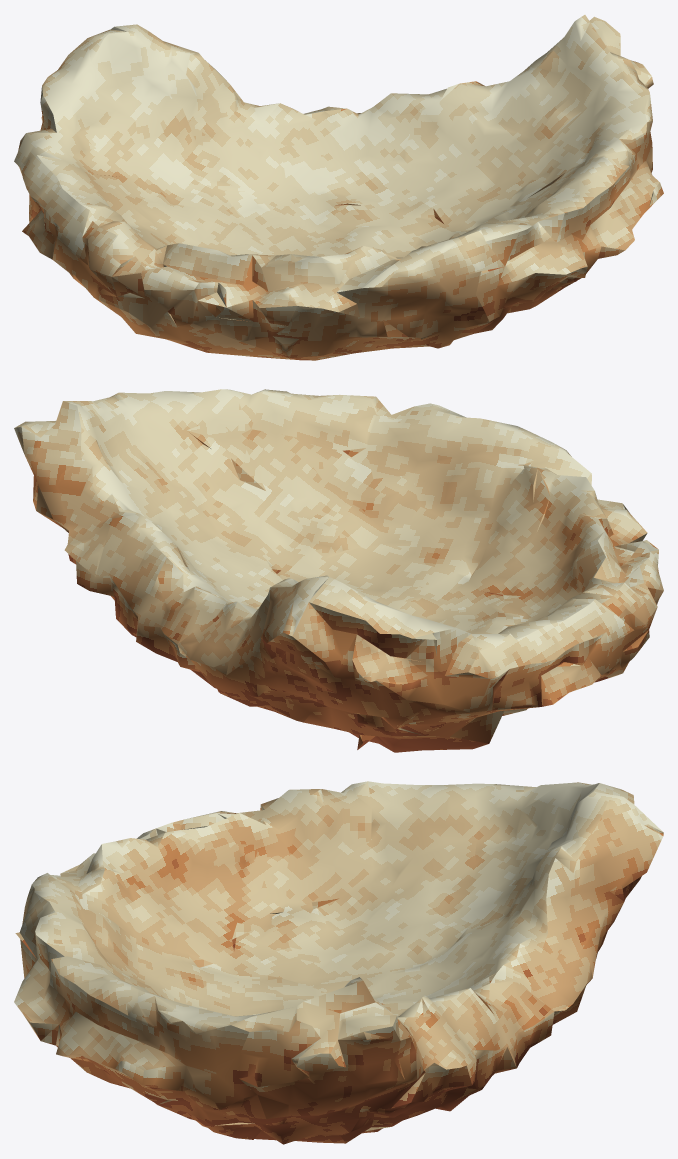
File: senbei.glb
3 renders of one model, top to bottom at view 1: azimuth 30°, elevation 25°; view 2: azimuth 150°, elevation 25°; view 3: azimuth 270°, elevation 25°, orthographic. The views are drawn at different scales.
Parts seen in each view (by area): view 1: mesh; view 2: mesh; view 3: mesh.
Part boxes in pixels (x1=…): mesh: x1=14, y1=15, x2=663, y2=360; mesh: x1=14, y1=389, x2=663, y2=752; mesh: x1=14, y1=781, x2=663, y2=1144.
Size of the model in its own units: 0.1366 by 0.06 by 0.1213.
Materials: 1 (1 with a texture image).
